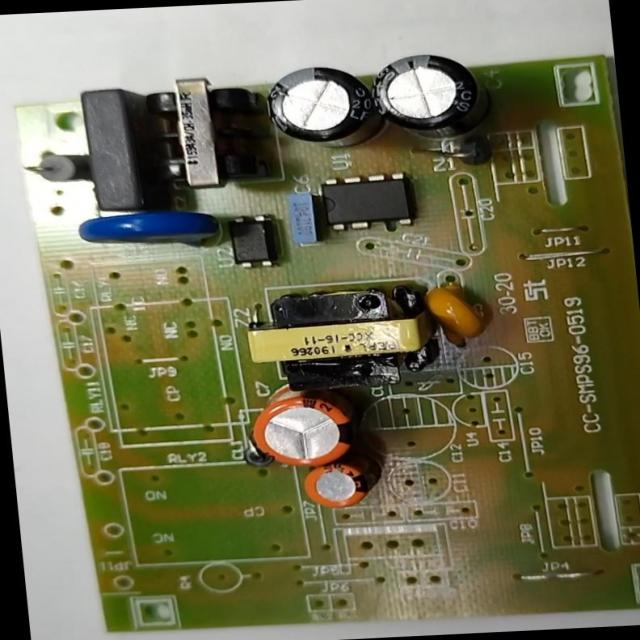Cap1: (248, 391, 362, 466)
Cap2: (302, 461, 382, 509)
Cap3: (260, 62, 382, 150)
Cap4: (368, 52, 486, 142)
MOSFET: (315, 172, 420, 232)
Mov: (76, 211, 218, 254)
Resistor: (23, 150, 93, 188)
Transformer: (239, 286, 437, 383), (142, 74, 267, 190)
